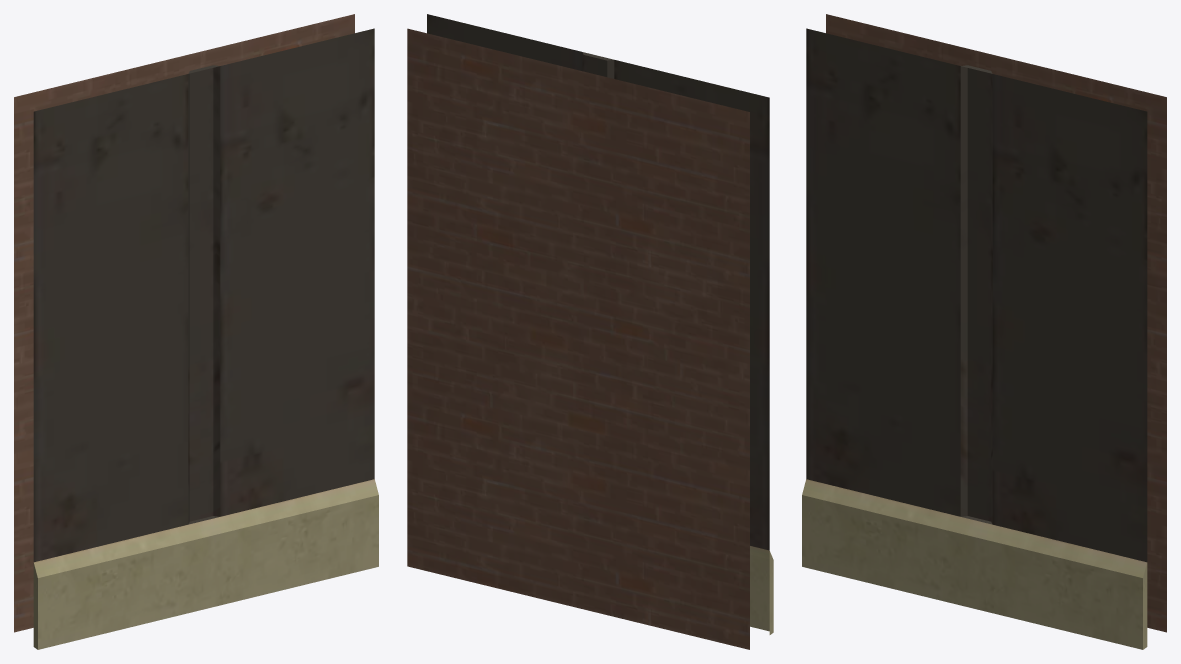
File: Metal_FirstFloor_Wall.glb
3 views of the same model, side by side, from view 1: azimuth 30°, elevation 25°; view 2: azimuth 150°, elevation 25°; view 3: azimuth 330°, elevation 25° (orthographic).
Parts seen in each view (by area): view 1: Metal_FirstFloor_Wall; view 2: Metal_FirstFloor_Wall; view 3: Metal_FirstFloor_Wall.
Boxes of the visible parts, x1=… form: Metal_FirstFloor_Wall: x1=14, y1=14, x2=378, y2=649; Metal_FirstFloor_Wall: x1=407, y1=14, x2=773, y2=649; Metal_FirstFloor_Wall: x1=802, y1=14, x2=1166, y2=649.
Size of the model in its own units: 2 by 3 by 0.2421.
Materials: 3 (3 with a texture image).
